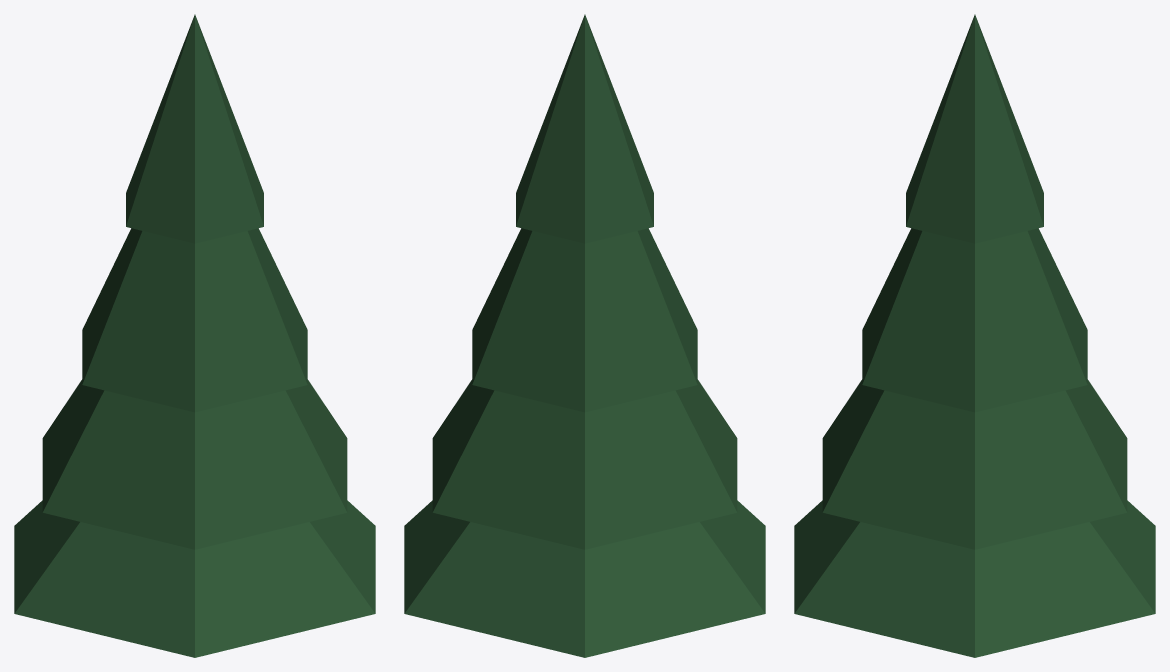
Rendered from evergreen_1_1.fbx.
3 renders of one model, left to right at view 1: azimuth 30°, elevation 25°; view 2: azimuth 150°, elevation 25°; view 3: azimuth 270°, elevation 25°, orthographic.
Visible parts, largest first — view 1: Cylinder; view 2: Cylinder; view 3: Cylinder.
Boxes of the visible parts, x1,y1,x2,y2 form: Cylinder: [14, 14, 375, 657]; Cylinder: [404, 14, 765, 657]; Cylinder: [794, 14, 1155, 657].
Bounding box in the file's own units: 320 × 500 × 277.
